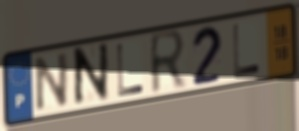2: (190, 23, 226, 91)
L: (231, 21, 263, 79), (114, 41, 146, 99)
N: (72, 40, 111, 112), (34, 50, 71, 115)
R: (148, 27, 189, 99)
